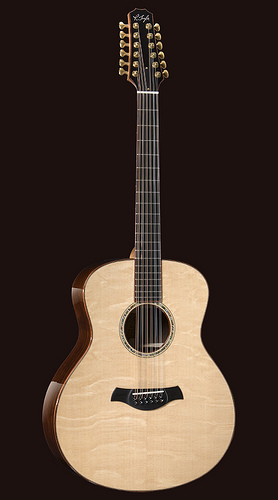guitar: (43, 3, 238, 488)
